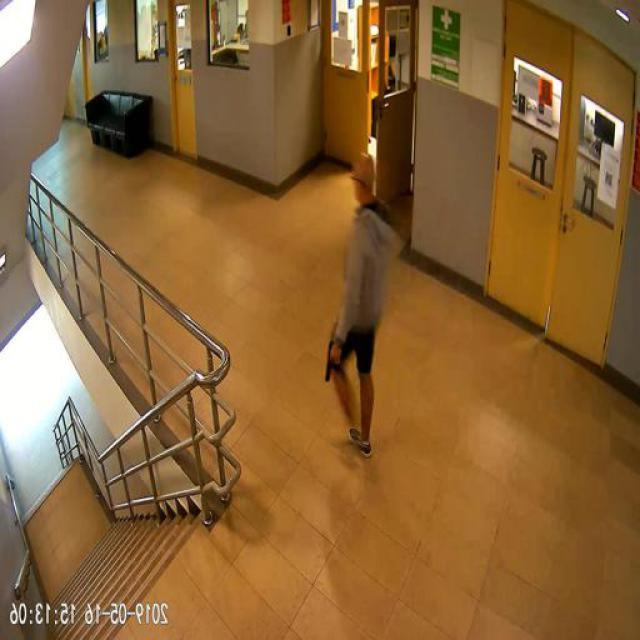weapon: (322, 341, 344, 383)
